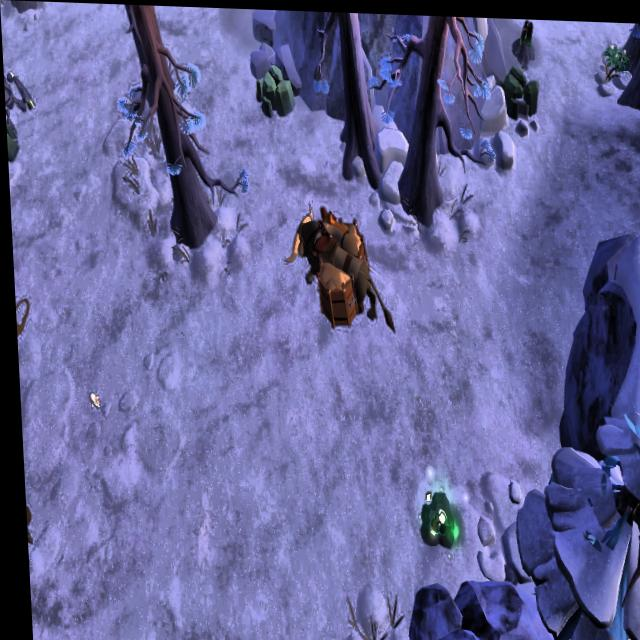fiber_t3: (601, 37, 631, 81)
ore_t3: (517, 15, 535, 46)
rock_t3: (495, 57, 543, 115), (251, 56, 294, 118)
